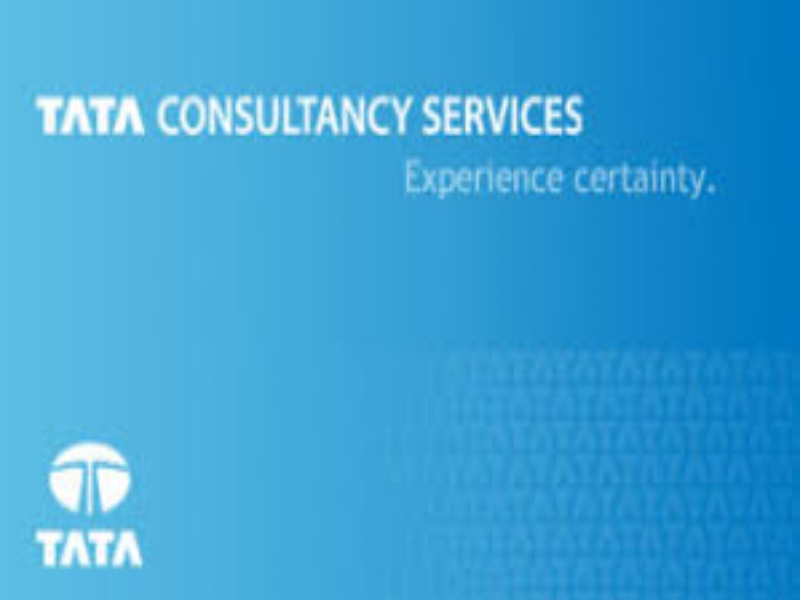tcs: (49, 443, 133, 514)
